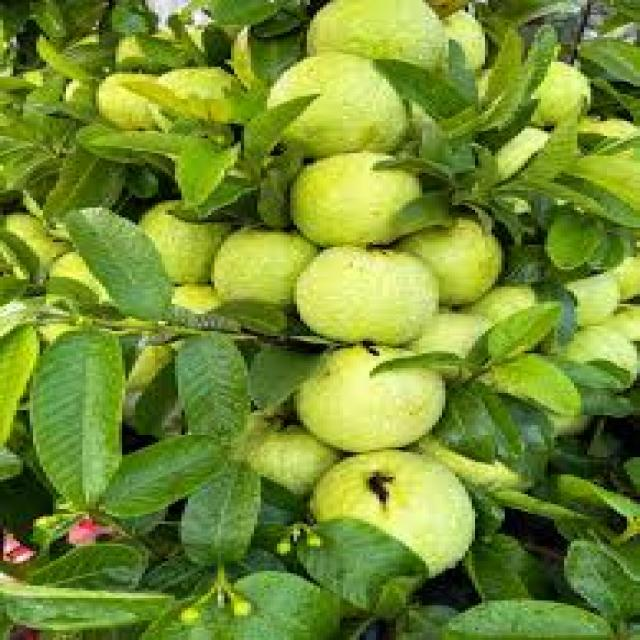Guava: (313, 455, 479, 577), (295, 343, 438, 450), (295, 250, 443, 346), (259, 56, 413, 148), (294, 158, 427, 248), (394, 221, 511, 313), (324, 2, 452, 66), (217, 229, 311, 309)
